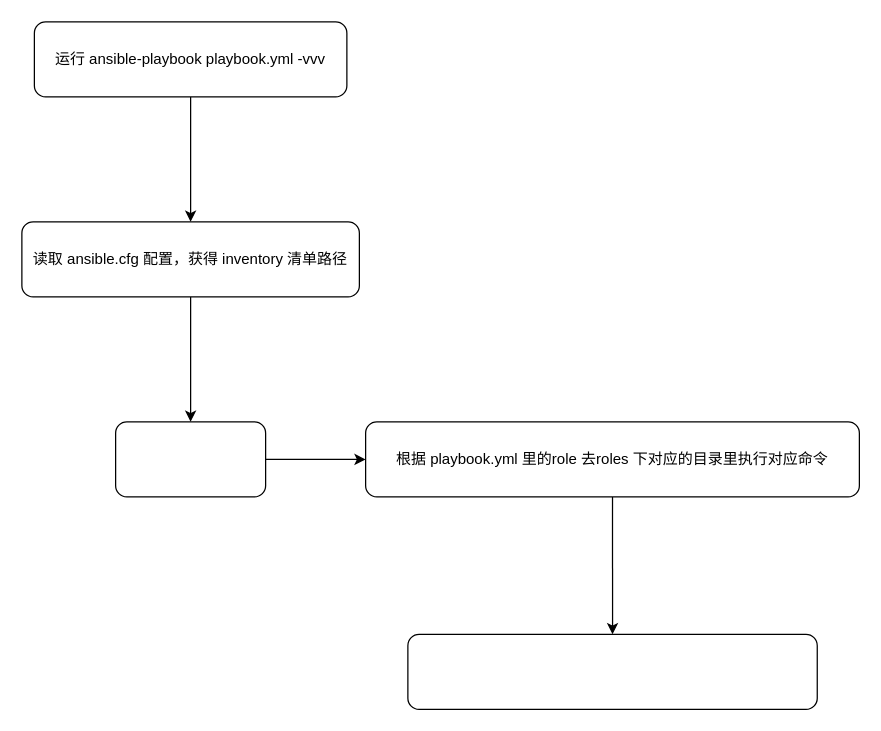
Image size: 881x731. Some labels were removed from this diagram. The box of each missing label's shape, as (x1, y1, x2, y2) in pixels:
shell 命令是在服务端执行的,所以配置会是走服务端的: (407, 633, 817, 709)
读取 playbook.yml: (114, 421, 266, 497)
